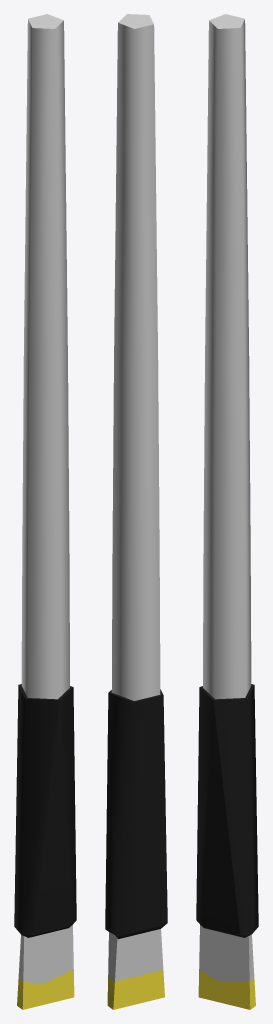
The model's file is 8832b7ae-7120-42cf-b029-7b7abd04ce76.glb.
The picture shows the model from 3 angles, left to right: view 1: azimuth 30°, elevation 25°; view 2: azimuth 210°, elevation 25°; view 3: azimuth 330°, elevation 25°; orthographic projection.
Visible parts, largest first — view 1: pCylinder13; view 2: pCylinder13; view 3: pCylinder13.
Part boxes in pixels (bbox=[...]): pCylinder13: bbox=[14, 14, 76, 1009]; pCylinder13: bbox=[105, 14, 167, 1009]; pCylinder13: bbox=[196, 14, 258, 1009].
Size of the model in its own units: 16.74 by 279 by 13.62.
